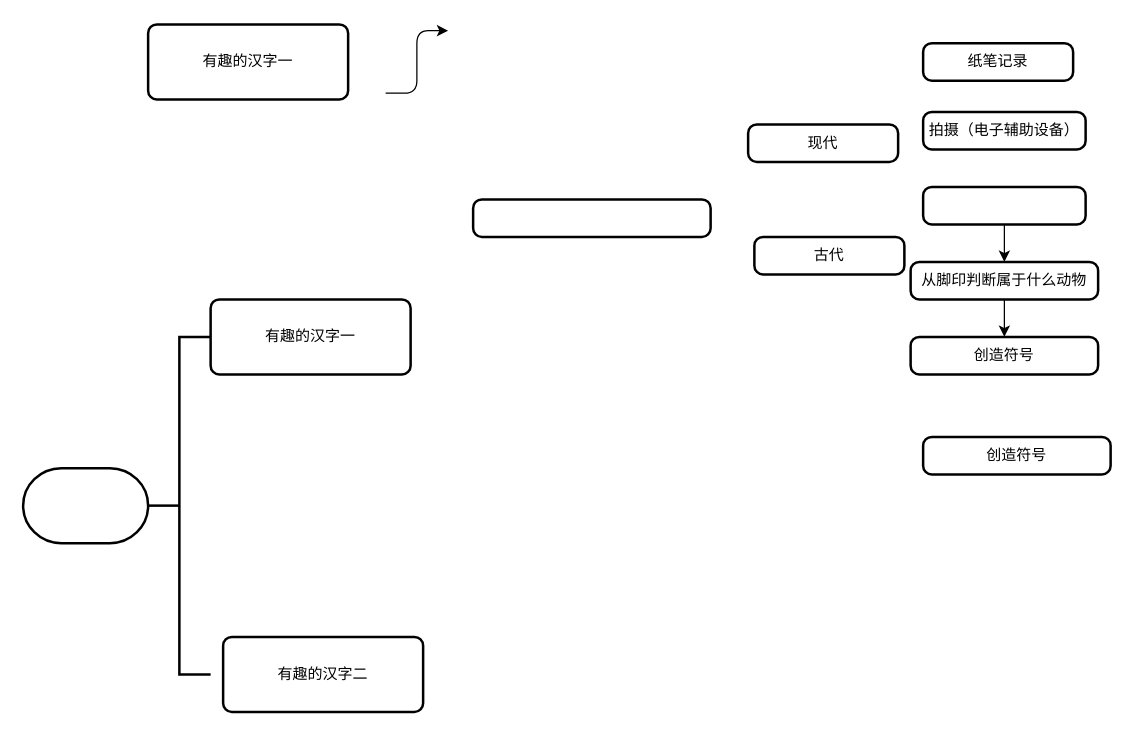
Image size: 1133x735. Some labels were removed from this diagram. The shapes that lost their labels are listed below. From the top down, each one's centre as x and y in pixels, then its label:
At [591,218]: "从记录（信息的交流跟传递）开始".
At [1003,205]: "打绳结+贝壳".
At [85,505]: "有趣的汉字".
